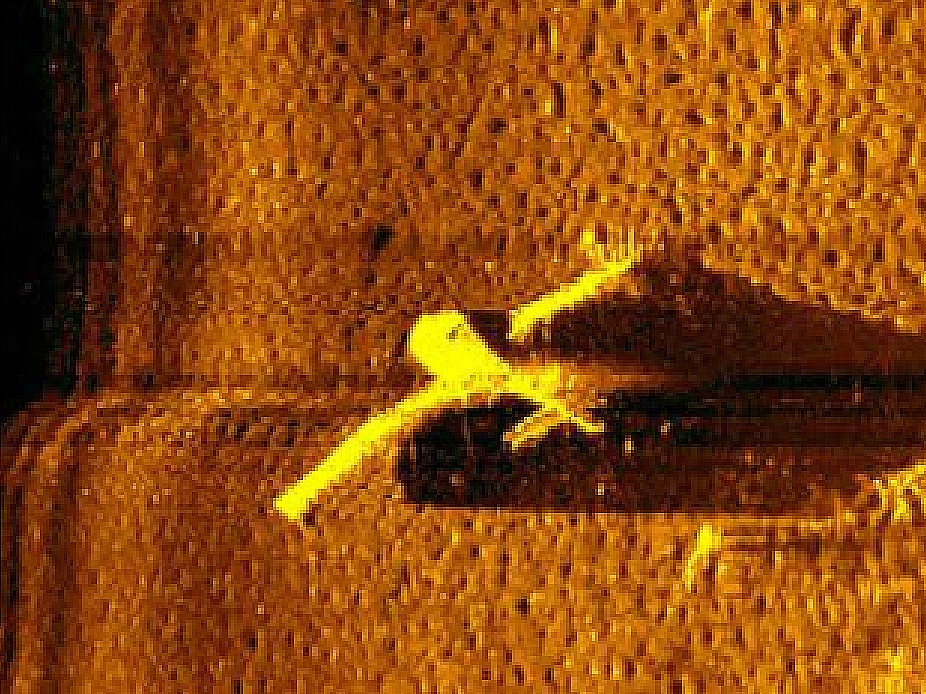aircraft: (268, 222, 665, 526)
